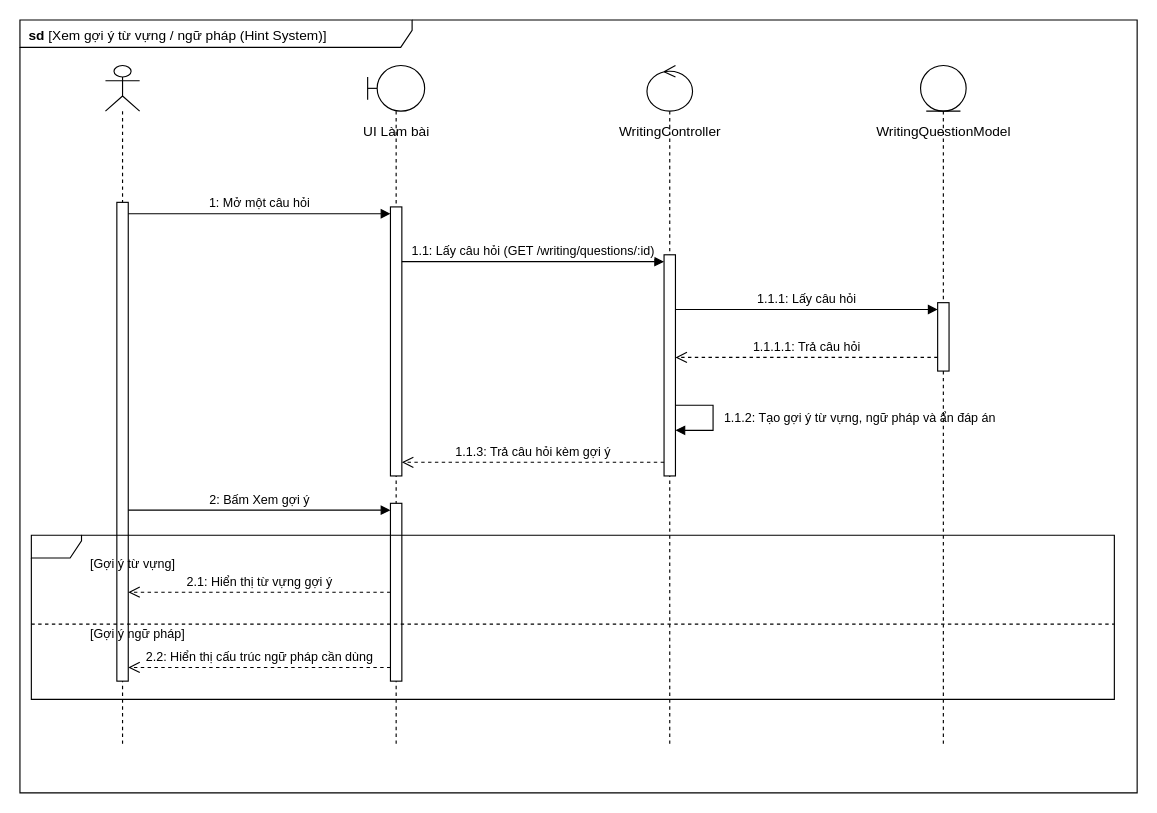
Image size: 1157x813. Some labels were removed from this diagram. The box of each missing label's shape, as (x1, y1, x2, y2) in pixels:
alt: (30, 534, 1114, 699)
Member: (104, 64, 140, 747)
